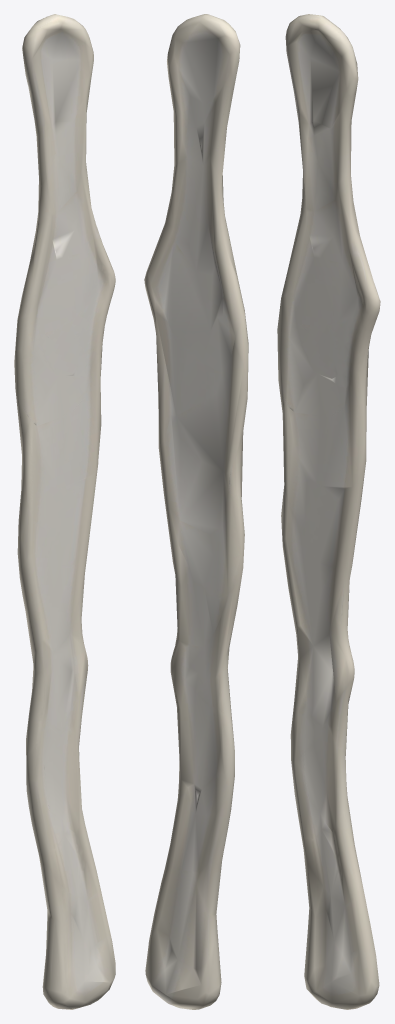
The model's file is flexor-tendon.glb.
3 renders of one model, left to right at view 1: azimuth 30°, elevation 25°; view 2: azimuth 150°, elevation 25°; view 3: azimuth 330°, elevation 25°, orthographic.
Parts seen in each view (by area): view 1: flexor-tendon; view 2: flexor-tendon; view 3: flexor-tendon.
Part boxes in pixels (<box>): flexor-tendon: <box>14,14,115,1009</box>; flexor-tendon: <box>144,14,248,1009</box>; flexor-tendon: <box>277,14,380,1009</box>.
Size of the model in its own units: 0.1056 by 1 by 0.0317.
1 material, 1 textured.
